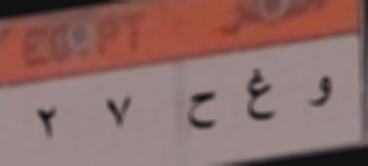2: (26, 98, 72, 147)
7: (100, 91, 136, 132)
7aa: (180, 80, 224, 136)
ghayn: (234, 60, 280, 128)
waw: (301, 70, 338, 116)
